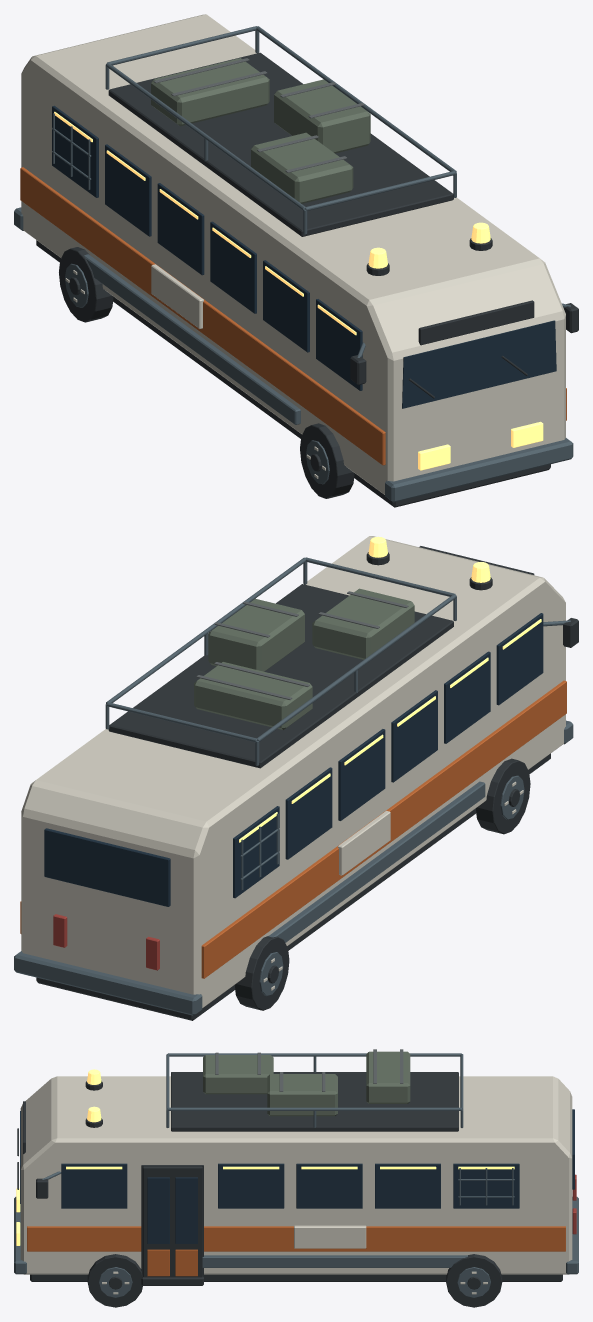
The model's file is BH_EvacBus_01.glb.
The picture shows the model from 3 angles, top to bottom: view 1: azimuth 30°, elevation 25°; view 2: azimuth 150°, elevation 25°; view 3: azimuth 270°, elevation 25°; orthographic projection. The views are drawn at different scales.
Visible parts, largest first — view 1: BH_EvacBus_01_RenderMesh, BH_EvacBus_01_LightMesh; view 2: BH_EvacBus_01_RenderMesh, BH_EvacBus_01_LightMesh; view 3: BH_EvacBus_01_RenderMesh, BH_EvacBus_01_Door, BH_EvacBus_01_LightMesh.
Boxes of the visible parts, x1,y1,x2,y2 form: BH_EvacBus_01_RenderMesh: (14, 14, 578, 507); BH_EvacBus_01_LightMesh: (54, 111, 543, 470); BH_EvacBus_01_RenderMesh: (14, 536, 578, 1020); BH_EvacBus_01_LightMesh: (239, 536, 541, 842); BH_EvacBus_01_RenderMesh: (14, 1049, 578, 1307); BH_EvacBus_01_Door: (142, 1166, 202, 1277); BH_EvacBus_01_LightMesh: (16, 1069, 514, 1245).
Size of what is drawn, in the model's own units: 3.11 by 3.66 by 9.22.
